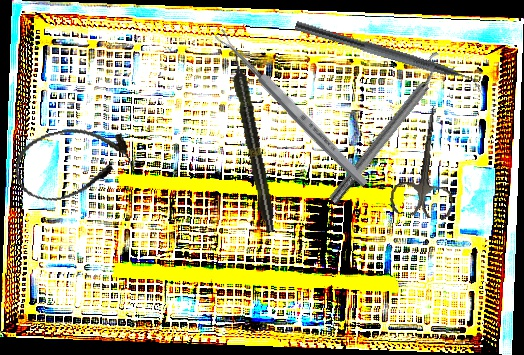Cannula: (7, 116, 138, 209)
Chopper: (290, 21, 489, 98)
Fixation Ring: (319, 50, 458, 210)
Handpiece: (227, 47, 279, 234)
Iris Scissors: (388, 102, 466, 221)
Surgical Spoon: (213, 27, 371, 190)
